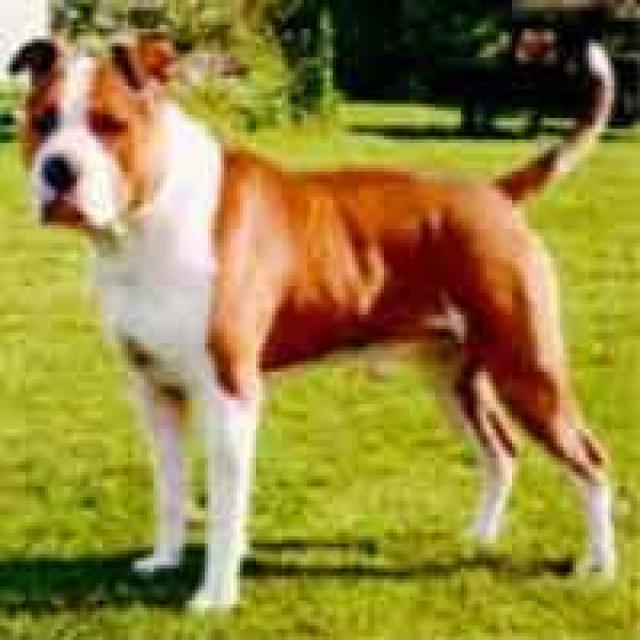staffordshire_bullterrier: (10, 36, 611, 611)
